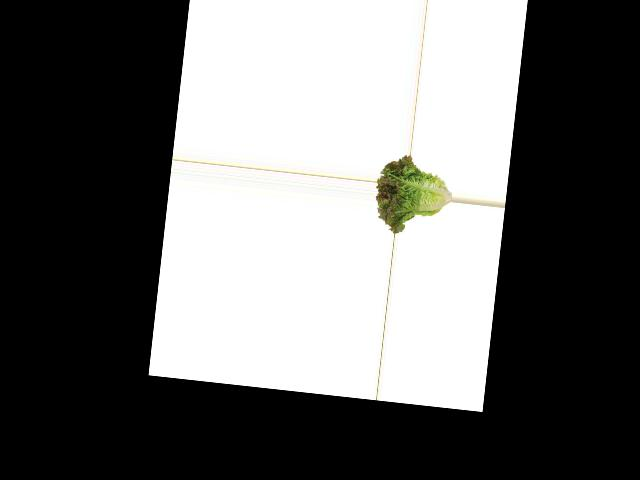lettuce: (372, 153, 456, 239)
